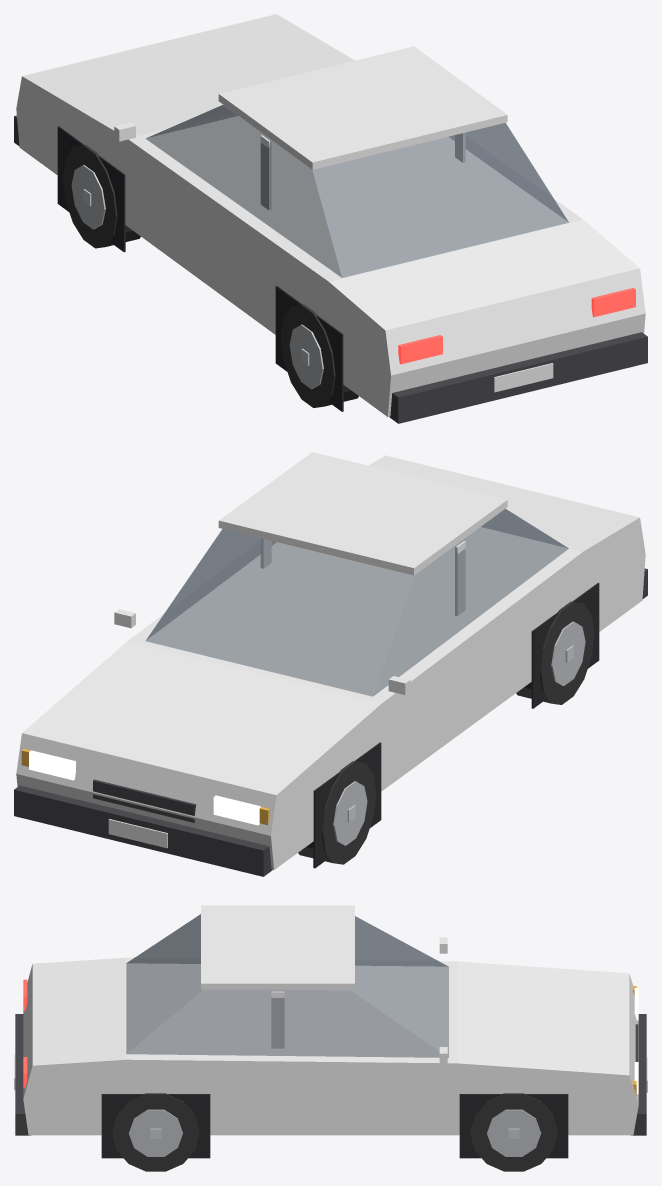
The model's file is sedan.glb.
3 renders of one model, top to bottom at view 1: azimuth 30°, elevation 25°; view 2: azimuth 150°, elevation 25°; view 3: azimuth 270°, elevation 25°, orthographic. The views are drawn at different scales.
Visible parts, largest first — view 1: body, cabin, roof, bumper_rear, wheel_lf, wheel_lb, arch_lb, arch_lf, plate_rear, taillight-1, taillight1, pillar_b-1; view 2: body, cabin, roof, bumper_front, wheel_lb, wheel_lf, arch_lb, arch_lf, grille, headlight-1, plate_front, headlight1 (+1 smaller); view 3: body, cabin, roof, wheel_rb, wheel_rf, arch_rf, arch_rb, bumper_rear, bumper_front, pillar_b1.
Boxes of the visible parts, left/top/right/bottom form: body: left=16, top=14, right=645, bottom=416; cabin: left=146, top=104, right=568, bottom=277; roof: left=218, top=46, right=507, bottom=169; bumper_rear: left=389, top=332, right=647, bottom=423; wheel_lf: left=62, top=145, right=140, bottom=248; wheel_lb: left=281, top=304, right=358, bottom=407; arch_lb: left=275, top=286, right=343, bottom=411; arch_lf: left=57, top=126, right=125, bottom=252; plate_rear: left=494, top=363, right=553, bottom=392; taillight-1: left=398, top=335, right=442, bottom=364; taillight1: left=591, top=288, right=635, bottom=317; pillar_b-1: left=260, top=135, right=271, bottom=210; body: left=16, top=455, right=645, bottom=869; cabin: left=146, top=509, right=568, bottom=696; roof: left=218, top=452, right=507, bottom=575; bumper_front: left=14, top=785, right=272, bottom=876; wheel_lb: left=516, top=601, right=594, bottom=704; wheel_lf: left=298, top=761, right=376, bottom=864; arch_lb: left=531, top=583, right=599, bottom=708; arch_lf: left=313, top=742, right=381, bottom=868; grille: left=93, top=779, right=196, bottom=822; headlight-1: left=213, top=795, right=260, bottom=825; plate_front: left=108, top=819, right=167, bottom=848; headlight1: left=29, top=750, right=75, bottom=780; body: left=23, top=957, right=638, bottom=1135; cabin: left=126, top=914, right=448, bottom=1057; roof: left=201, top=905, right=354, bottom=989; wheel_rb: left=112, top=1093, right=199, bottom=1171; wheel_rf: left=470, top=1093, right=557, bottom=1171; arch_rf: left=459, top=1094, right=568, bottom=1158; arch_rb: left=101, top=1094, right=210, bottom=1158; bumper_rear: left=15, top=1014, right=30, bottom=1135; bumper_front: left=631, top=1014, right=646, bottom=1135; pillar_b1: left=271, top=991, right=284, bottom=1048.
Bounding box in the file's own units: 2.08 × 1.46 × 4.78.
